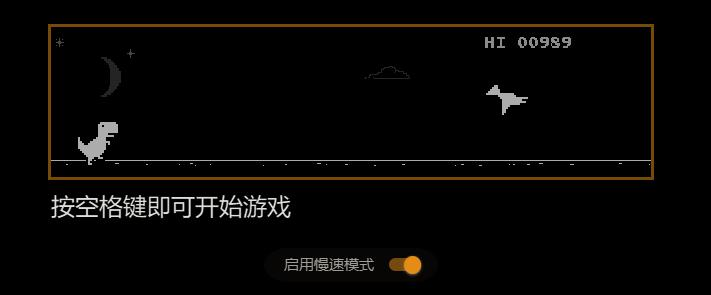bird: (485, 84, 528, 115)
dino: (75, 120, 119, 165)
